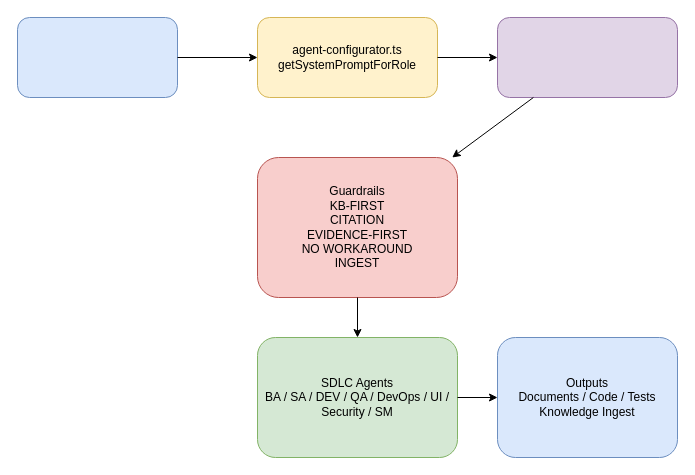
Some shapes in this 695 by 475 pixel diagram are drawn without their labels. The centre of each missing label's shape, as x and y in pixels:
"Chatbox User Input" belongs at [97,57].
"Prompt Templates prompts/*.md 8 Roles" belongs at [587,57].
